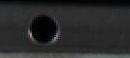holes: (27, 13, 60, 45)
